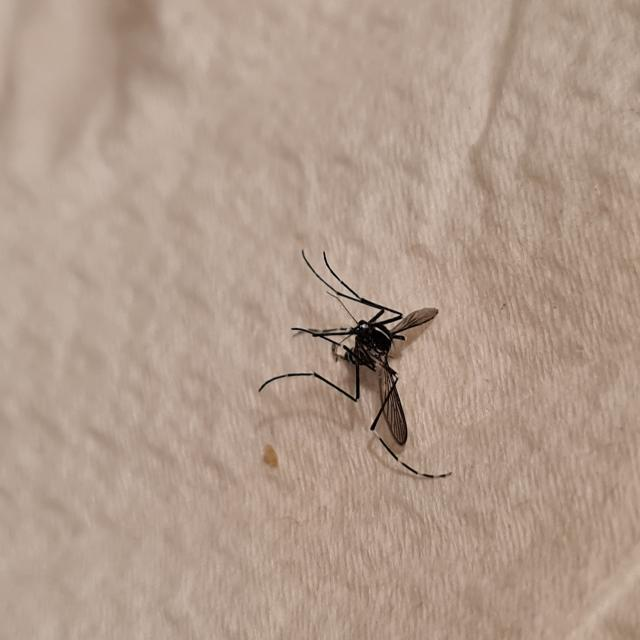albopictus: (258, 227, 456, 492)
